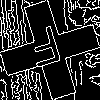F: (25, 25, 67, 77)
